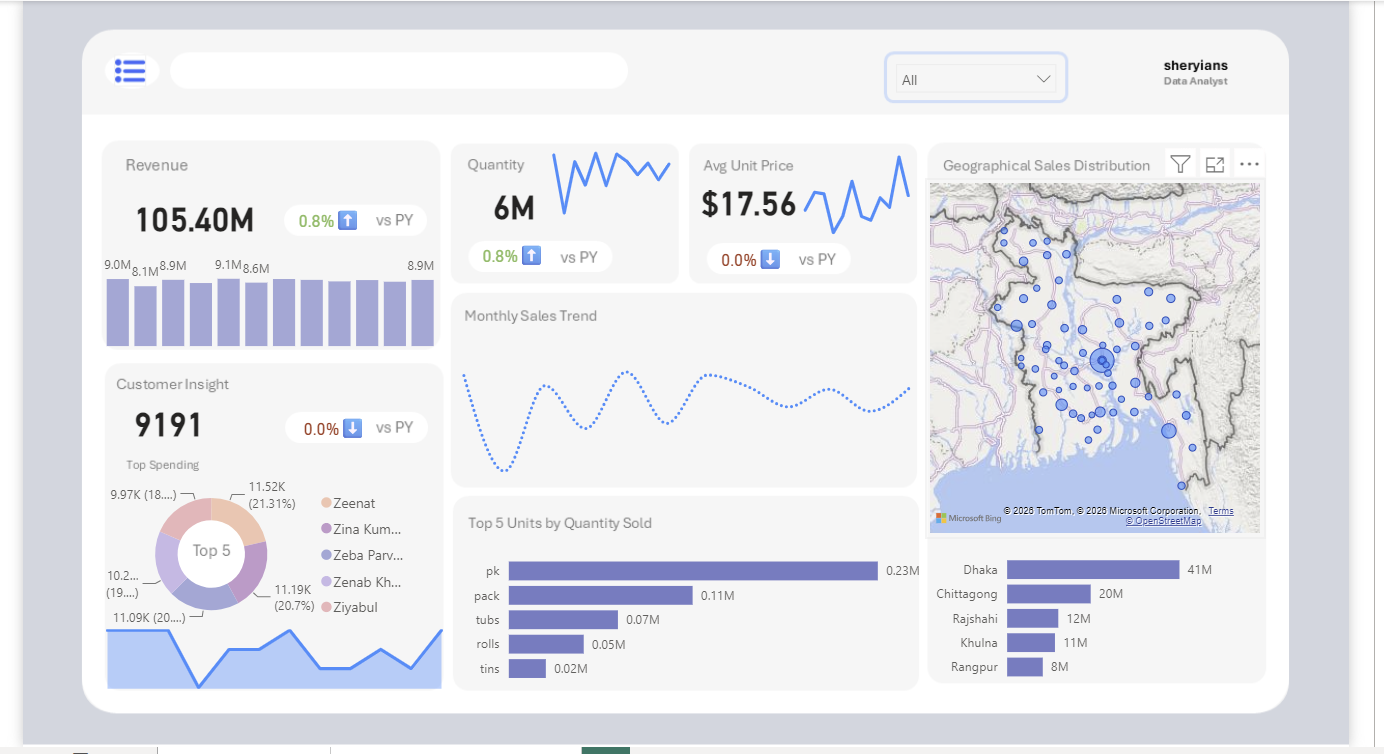

Layout of this report page (visuals, bound fields, positions):
{"tool":"powerbi","page":{"name":"Year wise Analysis","canvas":[1280,720],"ordinal":0},"visuals":[{"type":"card","fields":{"Values":["DAX MEASURES.TOTAL SALES"]},"box":[80.1,162.9,171.3,92.2],"z":0},{"type":"card","fields":{"Values":["DAX MEASURES.% YOY SALES"]},"box":[249.5,196.5,93.1,33.5],"z":1000},{"type":"columnChart","fields":{"Category":["time_dim.month"],"Y":["DAX MEASURES.TOTAL SALES"]},"box":[47.9,230,354.3,108.8],"z":2000},{"type":"slicer","fields":{"Values":["time_dim.year"]},"box":[832.4,50.3,175,48.4],"z":3000},{"type":"card","fields":{"Values":["DAX MEASURES.TOTAL QTY"]},"box":[388.2,150.8,171.3,92.2],"z":4000},{"type":"card","fields":{"Values":["DAX MEASURES.AVG UNIT PRICE"]},"box":[615.4,147.1,171.3,92.2],"z":5000},{"type":"card","fields":{"Values":["DAX MEASURES.% YOY QTY"]},"box":[427.4,230,93.1,33.5],"z":6000},{"type":"card","fields":{"Values":["DAX MEASURES.% YOY AVG PRICE"]},"box":[657.3,233.7,93.1,33.5],"z":7000},{"type":"lineChart","fields":{"Category":["time_dim.month"],"Y":["DAX MEASURES.TOTAL QTY"]},"box":[487.9,130.3,181.6,99.6],"z":8000},{"type":"lineChart","fields":{"Category":["time_dim.month"],"Y":["DAX MEASURES.AVG UNIT PRICE"]},"box":[730.9,111.7,165.7,118.2],"z":9000},{"type":"card","fields":{"Values":["DAX MEASURES.CUSTOMERS"]},"box":[55.9,360.3,171.3,92.2],"z":10000},{"type":"card","fields":{"Values":["DAX MEASURES.% YOY CUSTOMER"]},"box":[254.2,396.6,93.1,33.5],"z":11000},{"type":"donutChart","fields":{"Category":["customer_dim.name"],"Y":["DAX MEASURES.TOTAL SALES"]},"box":[72.6,455.3,310,158.3],"z":12000},{"type":"stackedAreaChart","fields":{"Category":["time_dim.month"],"Y":["DAX MEASURES.CUSTOMERS"]},"box":[37.2,593.1,381.7,75.4],"z":13000},{"type":"lineChart","fields":{"Category":["time_dim.month"],"Y":["DAX MEASURES.TOTAL SALES"]},"box":[371.5,304.5,500,162.9],"z":14000},{"type":"barChart","fields":{"Y":["DAX MEASURES.TOTAL QTY"],"Category":["fact_table.unit"]},"box":[427.4,518.6,444.1,149.9],"z":15000},{"type":"map","fields":{"Size":["DAX MEASURES.TOTAL SALES"],"Category":["store_dim.store_location"]},"box":[871.5,171.3,327.7,347.3],"z":16000},{"type":"barChart","fields":{"Category":["store_dim.division"],"Y":["DAX MEASURES.TOTAL SALES"]},"box":[870.8,517.6,328.8,149.6],"z":17000}]}

Visuals, with their boxes on the page's 1280x720 design canvas (x1, y1, x2, y2). These are canvas units, not pixel positions in the 1384x754 screenshot, which may show the page scaled, cropped or inside an application window:
card - DAX MEASURES.TOTAL SALES: <box>80,163,251,255</box>
card - DAX MEASURES.% YOY SALES: <box>250,196,343,230</box>
columnChart - time_dim.month x DAX MEASURES.TOTAL SALES: <box>48,230,402,339</box>
slicer - time_dim.year: <box>832,50,1007,99</box>
card - DAX MEASURES.TOTAL QTY: <box>388,151,560,243</box>
card - DAX MEASURES.AVG UNIT PRICE: <box>615,147,787,239</box>
card - DAX MEASURES.% YOY QTY: <box>427,230,520,264</box>
card - DAX MEASURES.% YOY AVG PRICE: <box>657,234,750,267</box>
lineChart - time_dim.month x DAX MEASURES.TOTAL QTY: <box>488,130,670,230</box>
lineChart - time_dim.month x DAX MEASURES.AVG UNIT PRICE: <box>731,112,897,230</box>
card - DAX MEASURES.CUSTOMERS: <box>56,360,227,452</box>
card - DAX MEASURES.% YOY CUSTOMER: <box>254,397,347,430</box>
donutChart - customer_dim.name x DAX MEASURES.TOTAL SALES: <box>73,455,383,614</box>
stackedAreaChart - time_dim.month x DAX MEASURES.CUSTOMERS: <box>37,593,419,668</box>
lineChart - time_dim.month x DAX MEASURES.TOTAL SALES: <box>372,304,872,467</box>
barChart - DAX MEASURES.TOTAL QTY x fact_table.unit: <box>427,519,872,668</box>
map - DAX MEASURES.TOTAL SALES x store_dim.store_location: <box>872,171,1199,519</box>
barChart - store_dim.division x DAX MEASURES.TOTAL SALES: <box>871,518,1200,667</box>
